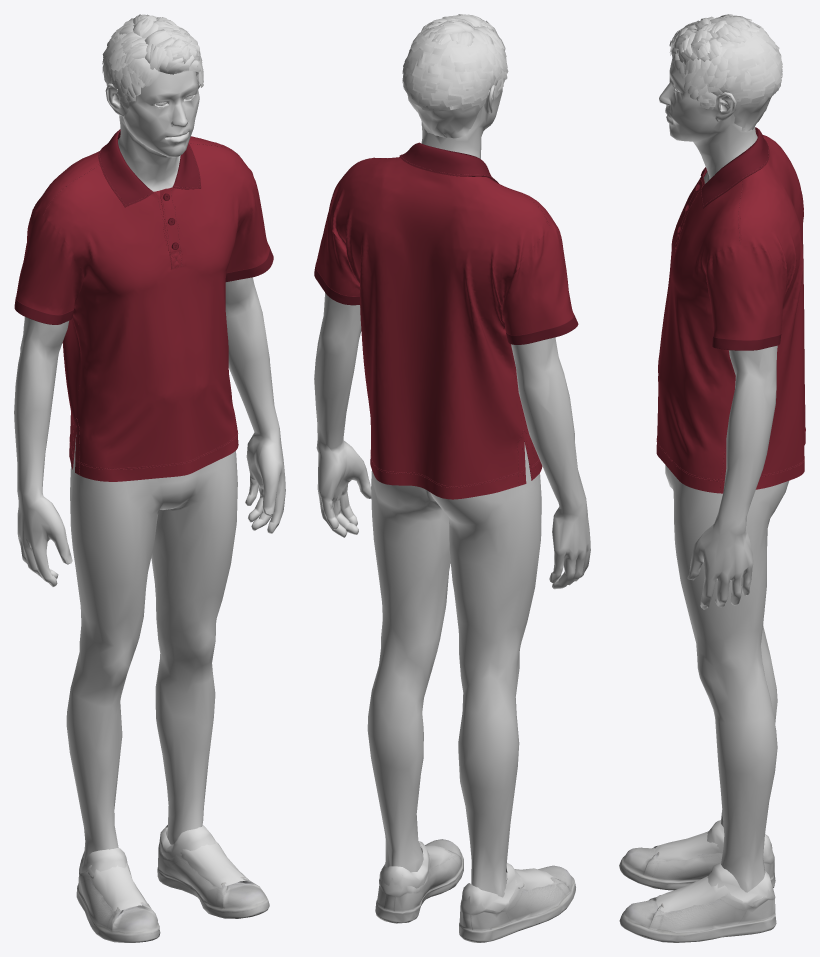
Rendered from polo_shirt_mannequin_optimized.glb.
3 views of the same model, side by side, from view 1: azimuth 30°, elevation 25°; view 2: azimuth 150°, elevation 25°; view 3: azimuth 270°, elevation 25° (orthographic).
Bounding box in the file's own units: 0.5923 × 1.93 × 0.3668.
Materials: 9 (5 with a texture image).
